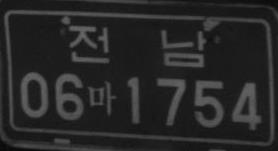0: (19, 70, 49, 118)
1: (120, 76, 148, 124)
4: (230, 82, 262, 130)
5: (193, 78, 225, 128)
6: (53, 72, 85, 121)
7: (155, 77, 187, 126)
마: (87, 80, 116, 116)
전남_D: (68, 25, 206, 68)
